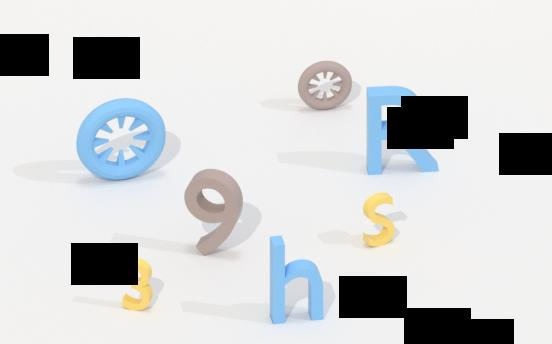3: (116, 250, 155, 317)
9: (181, 161, 248, 262)
R-hoa: (363, 79, 442, 180)
h: (265, 227, 332, 327)
s: (354, 187, 408, 254)
tron: (75, 89, 171, 185), (295, 52, 353, 120)
